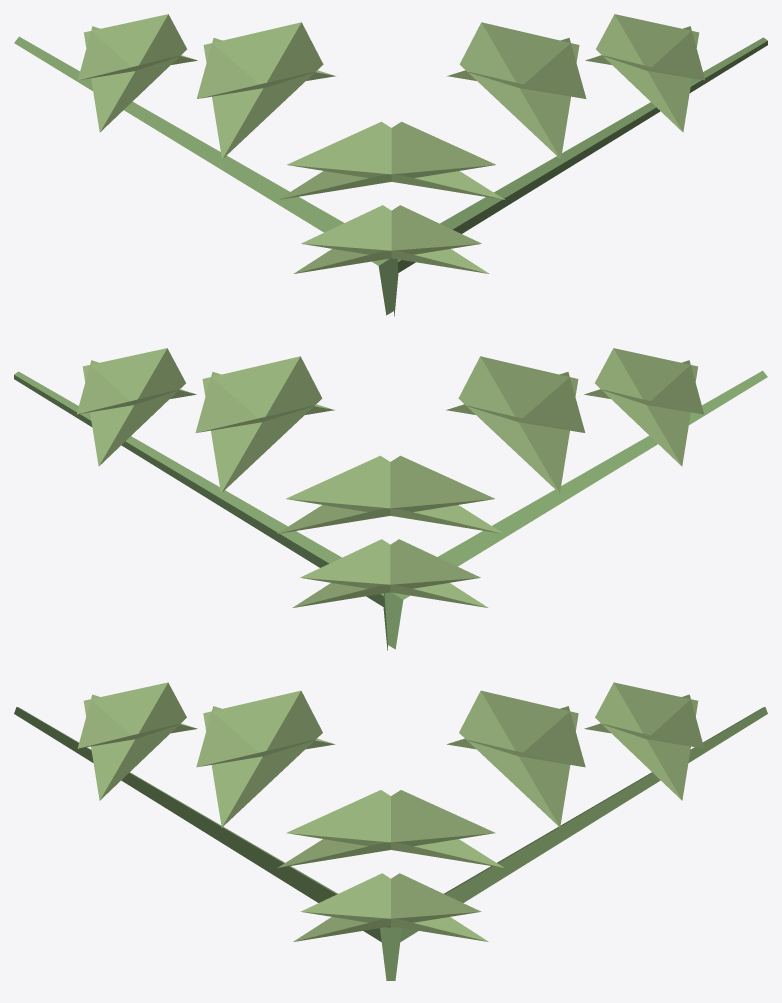
3 views of the same model, one above another, from view 1: azimuth 30°, elevation 25°; view 2: azimuth 150°, elevation 25°; view 3: azimuth 270°, elevation 25° (orthographic).
Visible parts, largest first — view 1: Body; view 2: Body; view 3: Body.
Part boxes in pixels (bbox=[...]): Body: bbox=[14, 14, 767, 316]; Body: bbox=[14, 348, 767, 650]; Body: bbox=[14, 682, 767, 980].
Bounding box in the file's own units: 1.28 × 0.4022 × 1.45.
